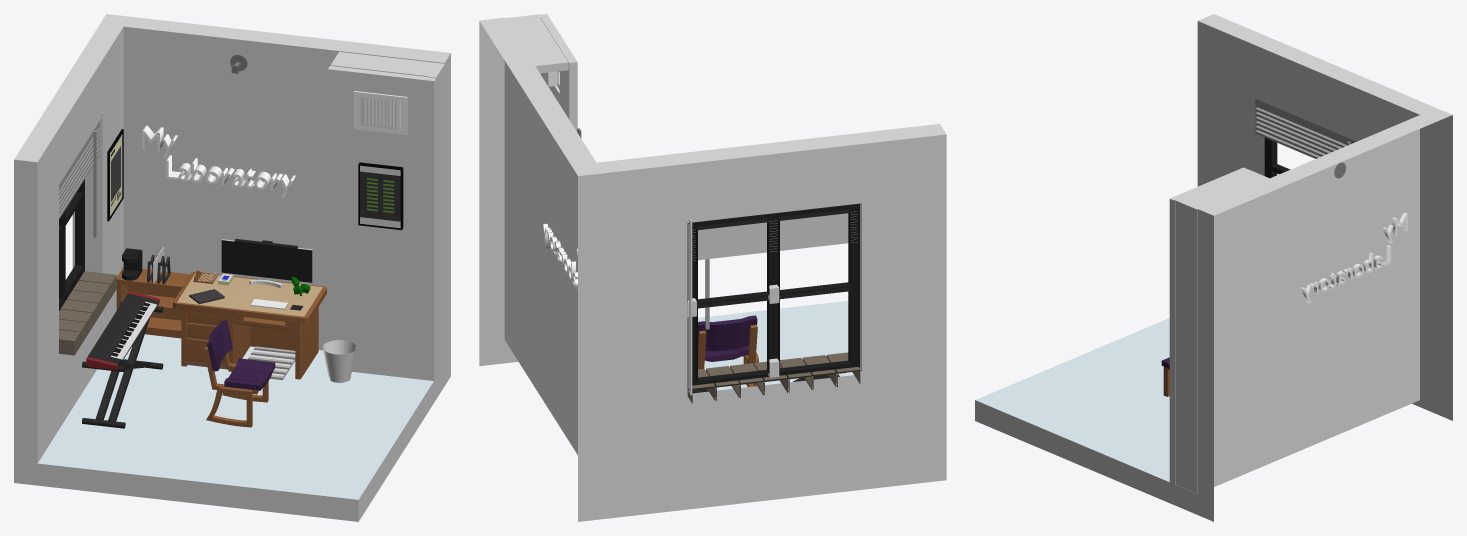
Rendered from FinalRoom6.glb.
3 views of the same model, side by side, from view 1: azimuth 30°, elevation 25°; view 2: azimuth 150°, elevation 25°; view 3: azimuth 270°, elevation 25° (orthographic). The views are drawn at different scales.
Parts seen in each view (by area): view 1: Walls, Cube.045, Cube, Cube.019, Cube.106, Cube.046, Cube.066, Text, Cube.031, Cube.030, Cube.047, Cube.103 (+13 smaller); view 2: Walls, Cube.030, Cube.103, Cube.047, Cube.045, Cube.099, Cube.046, Cube.031, Text; view 3: Walls, Cube.046, Cube.103, Cube.045, Text, Cube.047, Cube.030.
Boxes of the visible parts, left/top/right/bottom form: Walls: left=14, top=14, right=450, bottom=521; Cube.045: left=328, top=66, right=436, bottom=380; Cube: left=173, top=272, right=326, bottom=323; Cube.019: left=221, top=239, right=312, bottom=282; Cube.106: left=358, top=162, right=403, bottom=230; Cube.046: left=428, top=63, right=444, bottom=376; Cube.066: left=86, top=291, right=159, bottom=369; Text: left=142, top=125, right=295, bottom=198; Cube.031: left=72, top=112, right=102, bottom=273; Cube.030: left=59, top=179, right=84, bottom=310; Cube.047: left=330, top=52, right=436, bottom=76; Cube.103: left=59, top=121, right=99, bottom=219; Walls: left=479, top=17, right=946, bottom=521; Cube.030: left=687, top=203, right=861, bottom=390; Cube.103: left=692, top=211, right=857, bottom=260; Cube.047: left=507, top=18, right=568, bottom=73; Cube.045: left=540, top=14, right=577, bottom=130; Cube.099: left=698, top=315, right=757, bottom=351; Cube.046: left=504, top=14, right=542, bottom=341; Cube.031: left=687, top=218, right=692, bottom=395; Text: left=542, top=223, right=577, bottom=291; Walls: left=975, top=14, right=1452, bottom=521; Cube.046: left=1174, top=197, right=1201, bottom=493; Cube.103: left=1255, top=99, right=1356, bottom=158; Cube.045: left=1169, top=167, right=1248, bottom=484; Text: left=1300, top=212, right=1407, bottom=303; Cube.047: left=1181, top=169, right=1269, bottom=206; Cube.030: left=1264, top=137, right=1290, bottom=178.
Size of the model in its own units: 4.57 by 3.23 by 4.57.
